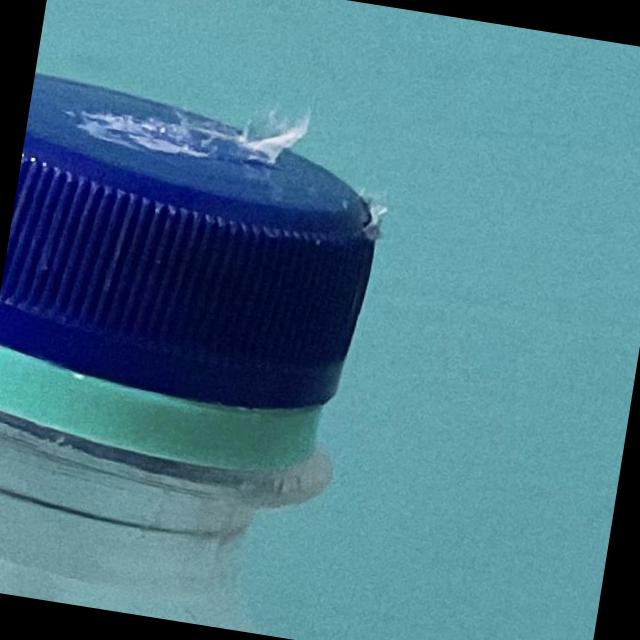Good-cap-Df0S: (0, 64, 426, 481)
